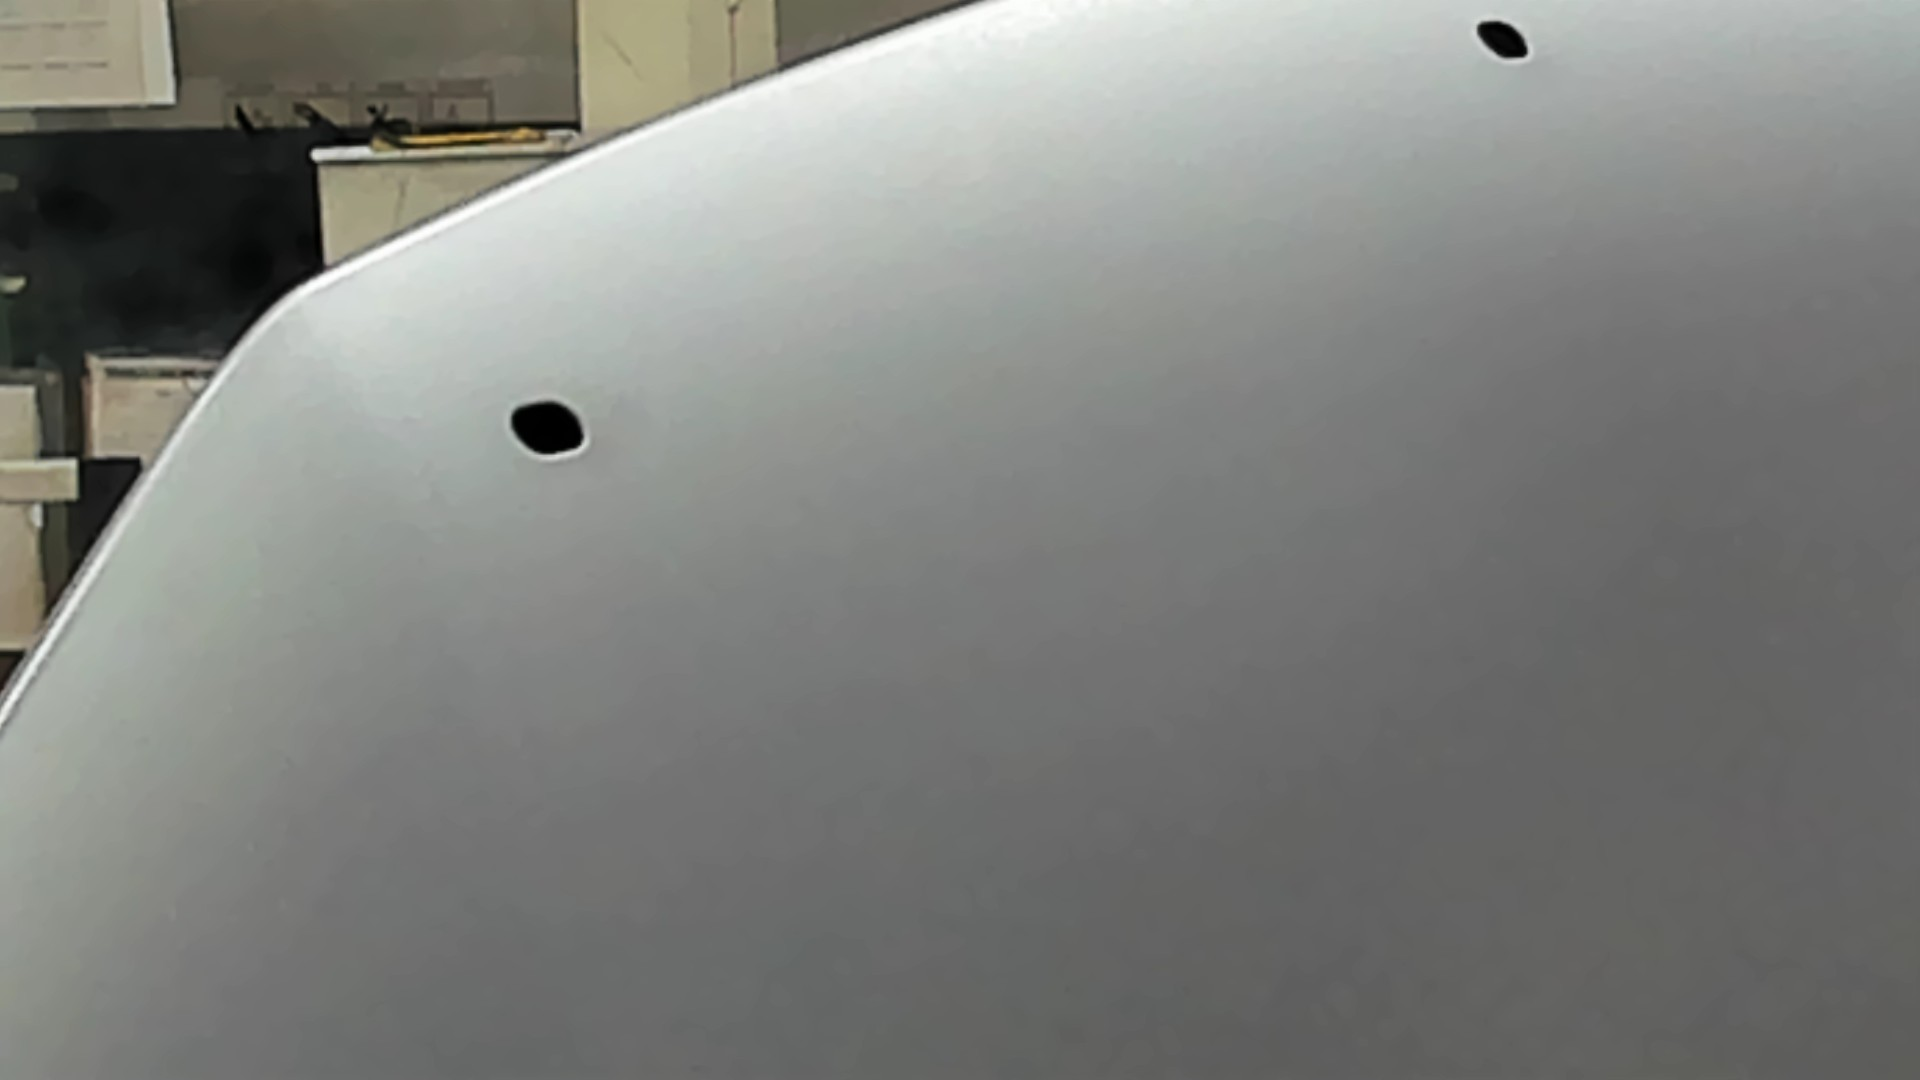Agujero: (506, 400, 592, 459), (1469, 17, 1534, 66)
